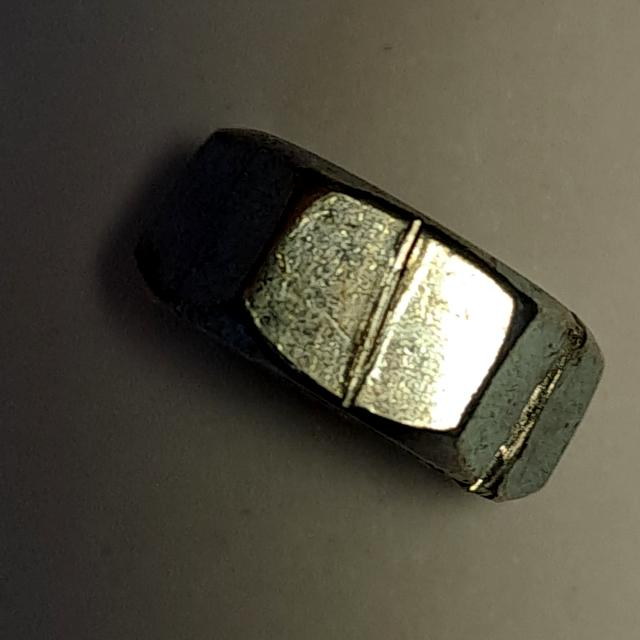Side_Scratches: (111, 111, 619, 514)
